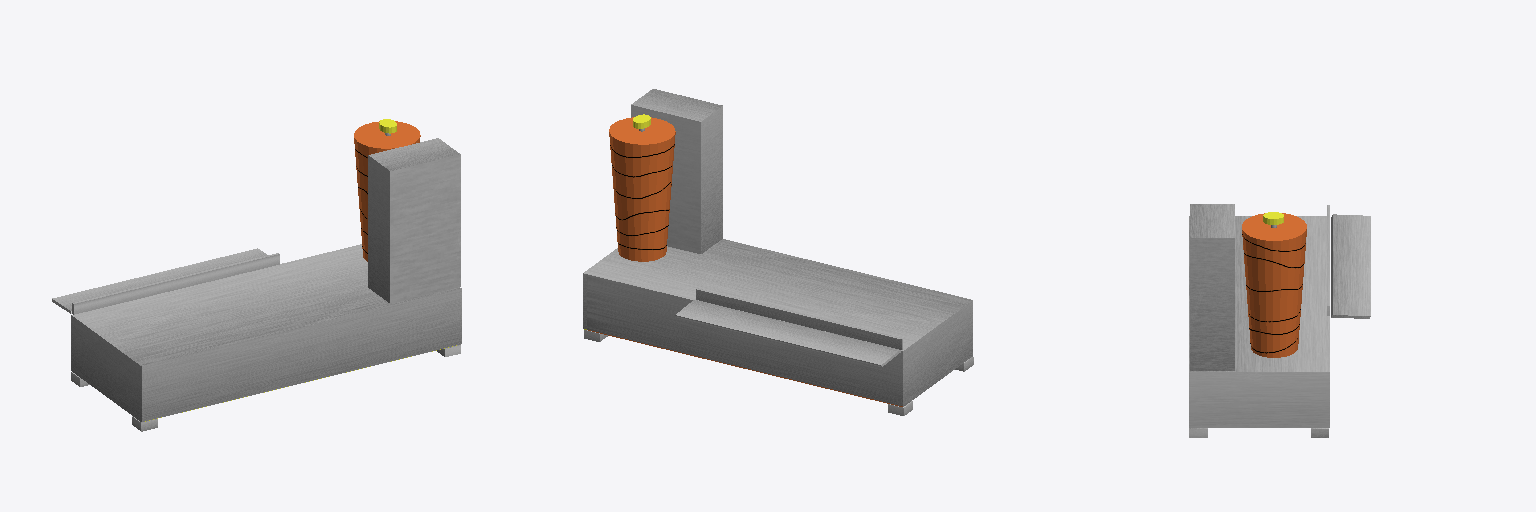
3 renders of one model, left to right at view 1: azimuth 30°, elevation 25°; view 2: azimuth 150°, elevation 25°; view 3: azimuth 270°, elevation 25°, orthographic.
Visible parts, largest first — view 1: plancha, estufa_trompo, Proteccion_barra, Trompo, barra; view 2: plancha, estufa_trompo, Trompo, barra, Proteccion_barra; view 3: plancha, Trompo, estufa_trompo, barra.
Part boxes in pixels (left/top/right/bottom): plancha: left=71, top=244, right=461, bottom=421; estufa_trompo: left=368, top=138, right=460, bottom=303; Proteccion_barra: left=72, top=253, right=279, bottom=314; Trompo: left=354, top=121, right=420, bottom=261; barra: left=52, top=248, right=267, bottom=313; plancha: left=583, top=239, right=972, bottom=406; estufa_trompo: left=631, top=89, right=722, bottom=253; Trompo: left=609, top=117, right=675, bottom=261; barra: left=675, top=300, right=900, bottom=366; Proteccion_barra: left=696, top=288, right=902, bottom=349; plancha: left=1189, top=216, right=1329, bottom=427; Trompo: left=1242, top=213, right=1306, bottom=357; estufa_trompo: left=1190, top=204, right=1234, bottom=370; barra: left=1331, top=214, right=1370, bottom=318.
Size of the model in its own units: 14.67 by 9.05 by 7.22.
1 materials, 1 textured.